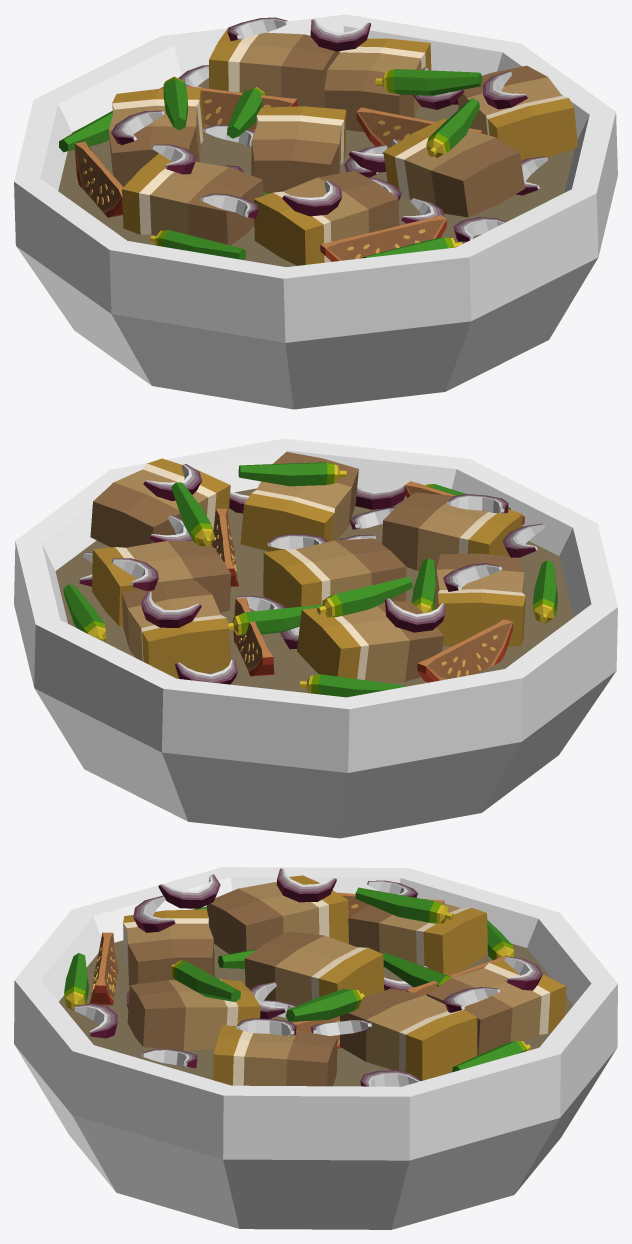
File: FINAL_Sinigang sa Mangga.fbx
3 views of the same model, one above another, from view 1: azimuth 30°, elevation 25°; view 2: azimuth 150°, elevation 25°; view 3: azimuth 270°, elevation 25° (orthographic). The views are drawn at different scales.
Visible parts, largest first — view 1: Sinigang sa Mangga; view 2: Sinigang sa Mangga; view 3: Sinigang sa Mangga.
Part boxes in pixels (x1,y1,x2,y2): Sinigang sa Mangga: [14, 14, 617, 409]; Sinigang sa Mangga: [14, 438, 617, 838]; Sinigang sa Mangga: [14, 867, 617, 1229].
Size of the model in its own units: 105 by 48.66 by 111.
